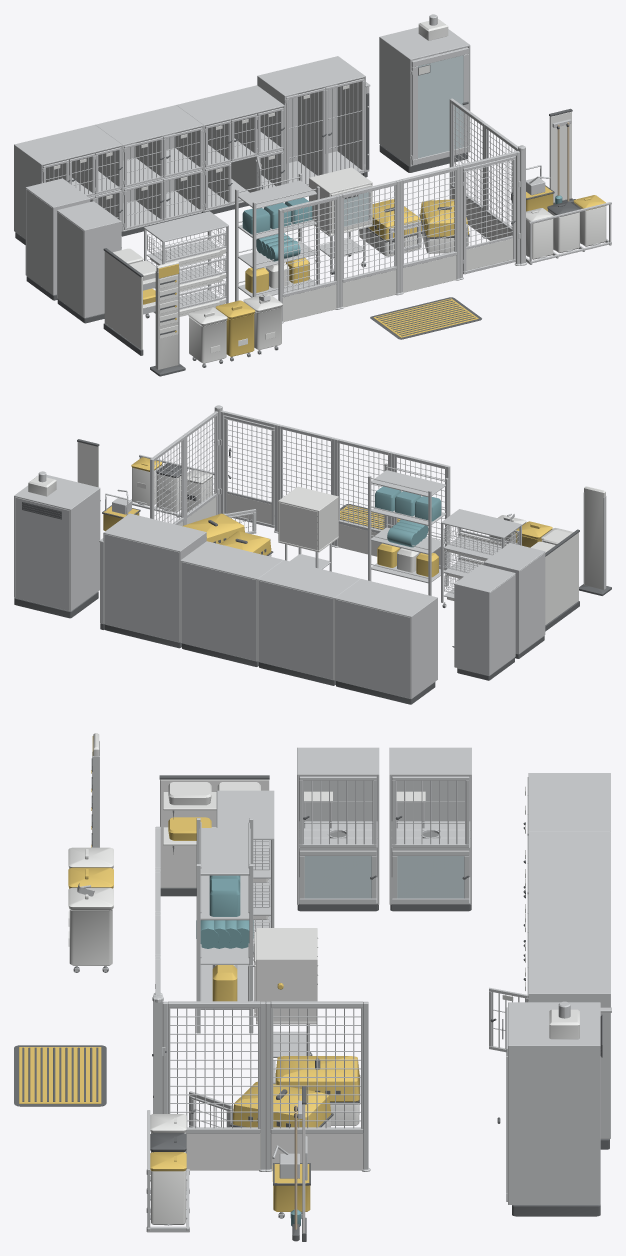
Rendered from clinic-and-veterinary-practice-veterinary-kennel-ward-09f2f583__16835.glb.
3 views of the same model, one above another, from view 1: azimuth 30°, elevation 25°; view 2: azimuth 150°, elevation 25°; view 3: azimuth 270°, elevation 25° (orthographic). The views are drawn at different scales.
Visible parts, largest first — view 1: 003-kennel-bank-large/0, 001-kennel-bank-medium/0, 002-kennel-bank-small-open/0, 000-kennel-bank-small/0, 007-cat-condo-unit/0, 005-isolation-kennel/0, 009-small-animal-hutch-rack/0, 010-bedding-and-litter-store/0, 006-cat-condo-unit/0, 005-isolation-kennel/door/glass, 008-cat-basket-shelf/0, 015-dog-run-panel/0 (+46 smaller); view 2: 000-kennel-bank-small/0, 005-isolation-kennel/0, 003-kennel-bank-large/0, 002-kennel-bank-small-open/0, 001-kennel-bank-medium/0, 006-cat-condo-unit/0, 010-bedding-and-litter-store/0, 009-small-animal-hutch-rack/0, 007-cat-condo-unit/0, 011-recovery-incubator/2, 008-cat-basket-shelf/0, 018-run-gate/gate/metal (+27 smaller); view 3: 005-isolation-kennel/0, 007-cat-condo-unit/0, 006-cat-condo-unit/0, 021-dog-run-panel/0, 010-bedding-and-litter-store/0, 020-dog-run-panel/0, 003-kennel-bank-large/0, 011-recovery-incubator/2, 001-kennel-bank-medium/0, 000-kennel-bank-small/0, 008-cat-basket-shelf/0, 009-small-animal-hutch-rack/0 (+36 smaller).
Boxes of the visible parts, left/top/right/bottom form: 003-kennel-bank-large/0: left=257, top=56, right=365, bottom=186; 001-kennel-bank-medium/0: left=95, top=105, right=203, bottom=231; 002-kennel-bank-small-open/0: left=176, top=85, right=284, bottom=211; 000-kennel-bank-small/0: left=14, top=125, right=122, bottom=239; 007-cat-condo-unit/0: left=57, top=201, right=121, bottom=318; 005-isolation-kennel/0: left=379, top=14, right=470, bottom=166; 009-small-animal-hutch-rack/0: left=144, top=211, right=228, bottom=317; 010-bedding-and-litter-store/0: left=235, top=173, right=319, bottom=301; 006-cat-condo-unit/0: left=25, top=178, right=90, bottom=295; 005-isolation-kennel/door/glass: left=418, top=55, right=463, bottom=158; 008-cat-basket-shelf/0: left=104, top=248, right=156, bottom=349; 015-dog-run-panel/0: left=278, top=195, right=340, bottom=323; 000-kennel-bank-small/0: left=334, top=579, right=437, bottom=698; 005-isolation-kennel/0: left=14, top=471, right=100, bottom=611; 003-kennel-bank-large/0: left=103, top=513, right=206, bottom=642; 002-kennel-bank-small-open/0: left=180, top=541, right=283, bottom=661; 001-kennel-bank-medium/0: left=257, top=560, right=360, bottom=680; 006-cat-condo-unit/0: left=454, top=564, right=515, bottom=675; 010-bedding-and-litter-store/0: left=368, top=463, right=448, bottom=595; 009-small-animal-hutch-rack/0: left=441, top=509, right=521, bottom=607; 007-cat-condo-unit/0: left=484, top=543, right=545, bottom=653; 011-recovery-incubator/2: left=278, top=486, right=338, bottom=552; 008-cat-basket-shelf/0: left=531, top=530, right=578, bottom=624; 018-run-gate/gate/metal: left=224, top=415, right=274, bottom=527; 005-isolation-kennel/0: left=508, top=1001, right=600, bottom=1204; 007-cat-condo-unit/0: left=297, top=747, right=379, bottom=904; 006-cat-condo-unit/0: left=389, top=747, right=471, bottom=904; 021-dog-run-panel/0: left=265, top=1001, right=370, bottom=1171; 010-bedding-and-litter-store/0: left=196, top=818, right=253, bottom=1033; 020-dog-run-panel/0: left=162, top=1001, right=265, bottom=1171; 003-kennel-bank-large/0: left=527, top=935, right=610, bottom=1007; 011-recovery-incubator/2: left=256, top=928, right=317, bottom=1024; 001-kennel-bank-medium/0: left=528, top=831, right=610, bottom=890; 000-kennel-bank-small/0: left=528, top=773, right=610, bottom=831; 008-cat-basket-shelf/0: left=160, top=779, right=269, bottom=887; 009-small-animal-hutch-rack/0: left=216, top=790, right=274, bottom=952.
Bounding box in the file's own units: 8.19 × 2.16 × 5.81.
